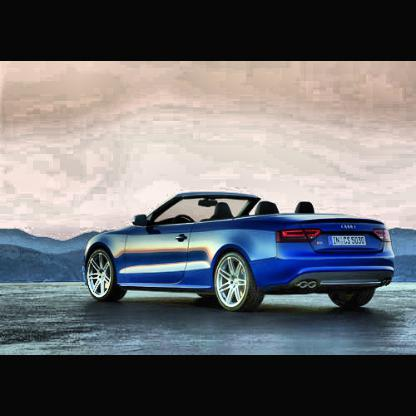Audi S5 Convertible 2012: (83, 192, 399, 316)
